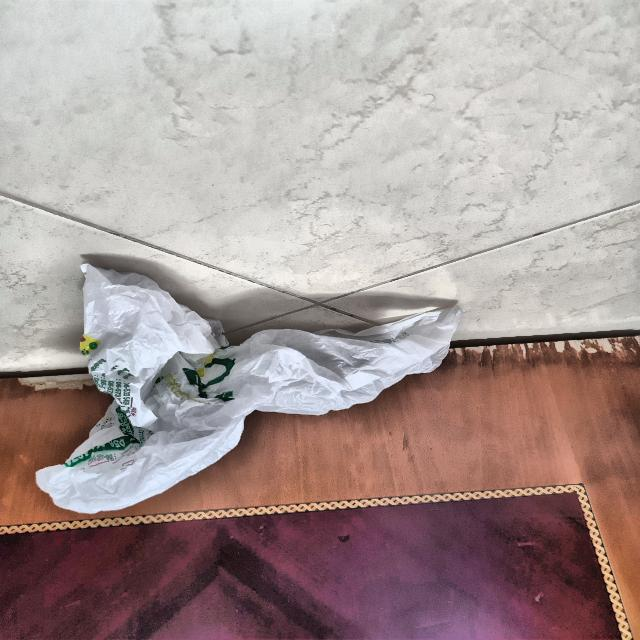plastic bag: (34, 262, 462, 514)
